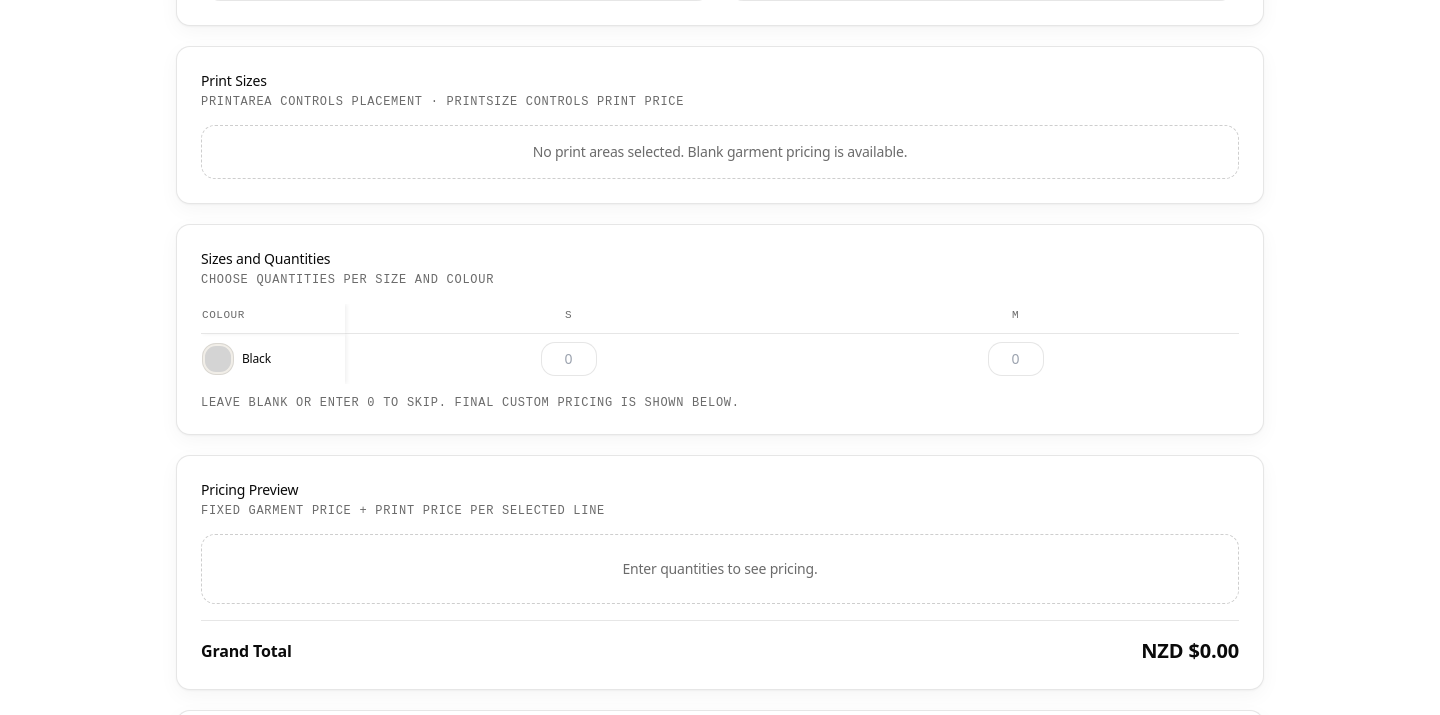
Test case: batch pricing › discards a slow earlier response so it cannot overwrite a newer quantity
(page scrolled)
Type "3" into the number field named "Quantity for Black S" at (568, 359), box [540,342,596,376]
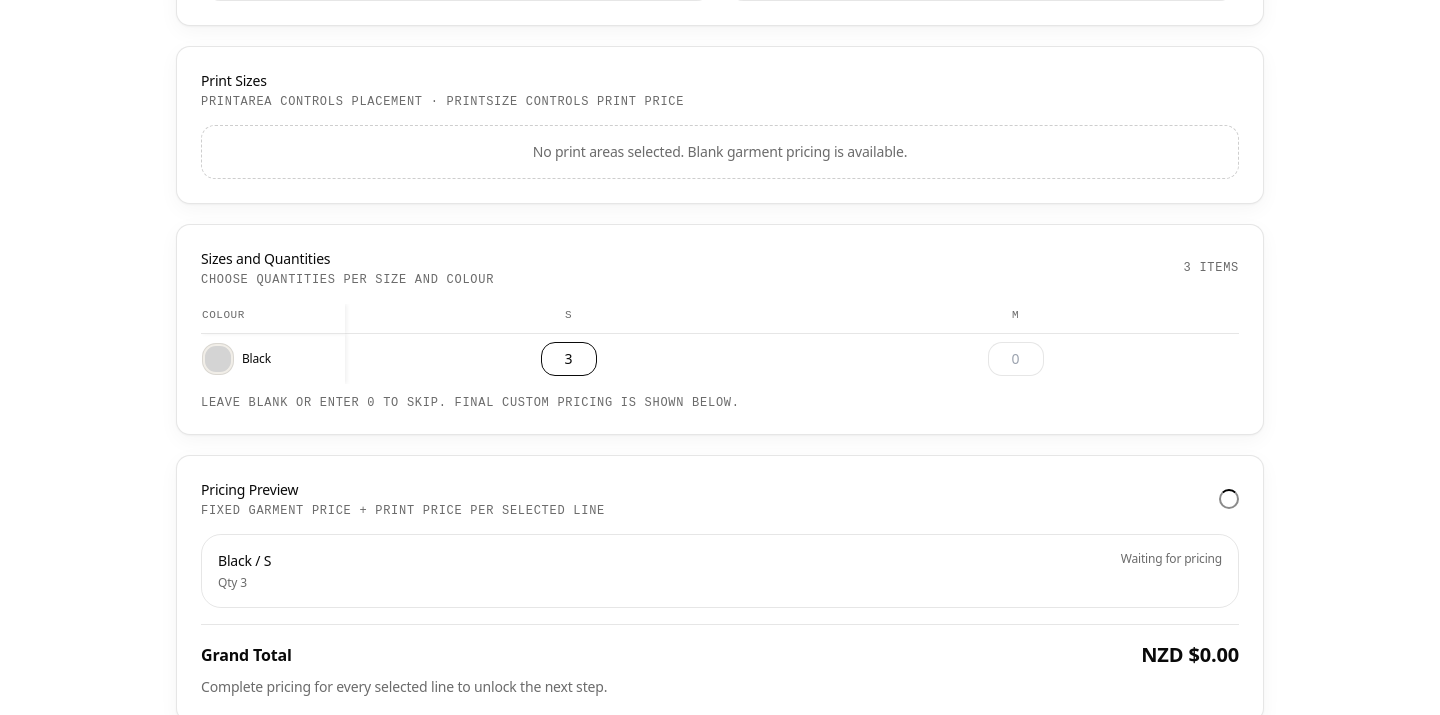
Replace the text in the number field named "Quantity for Black S" with "9" at (568, 359), box [540,342,596,376]
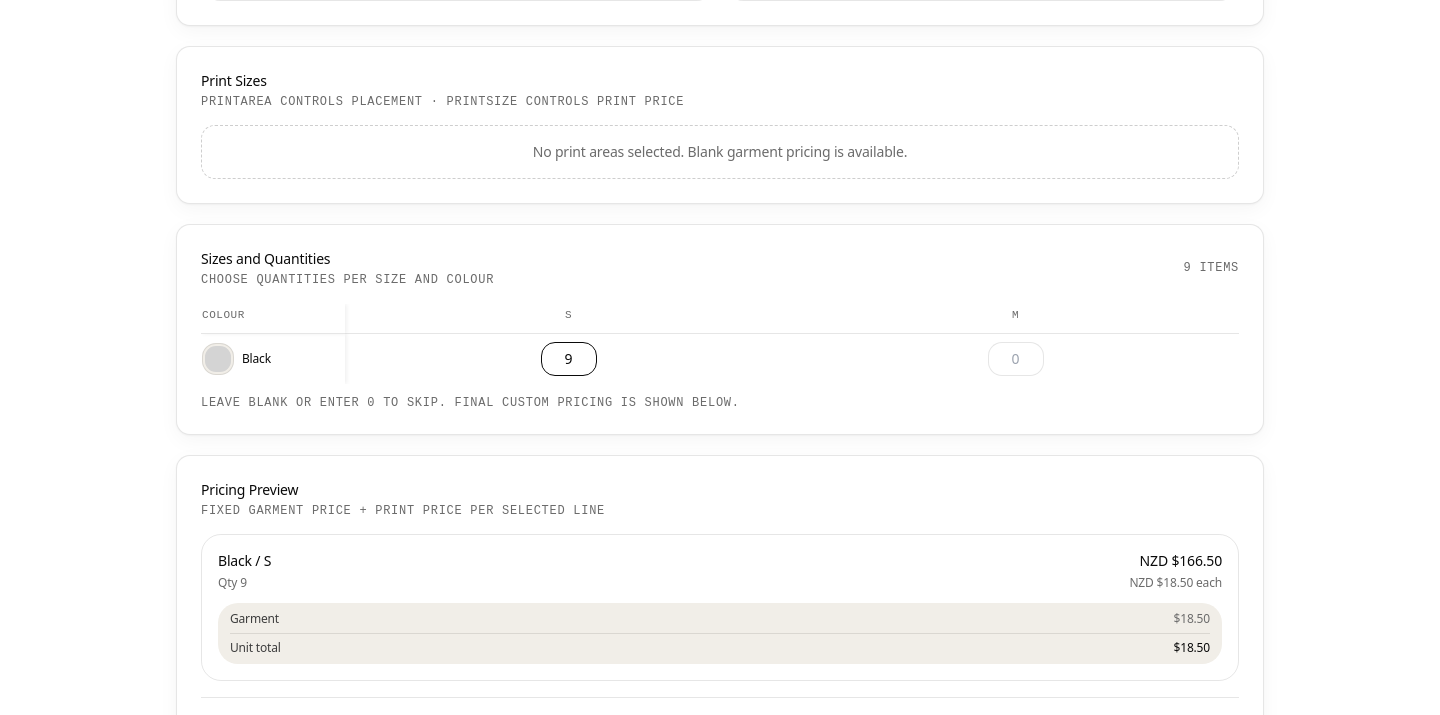
Expected: the text "9 items" is shown, [1184,261,1239,276]
